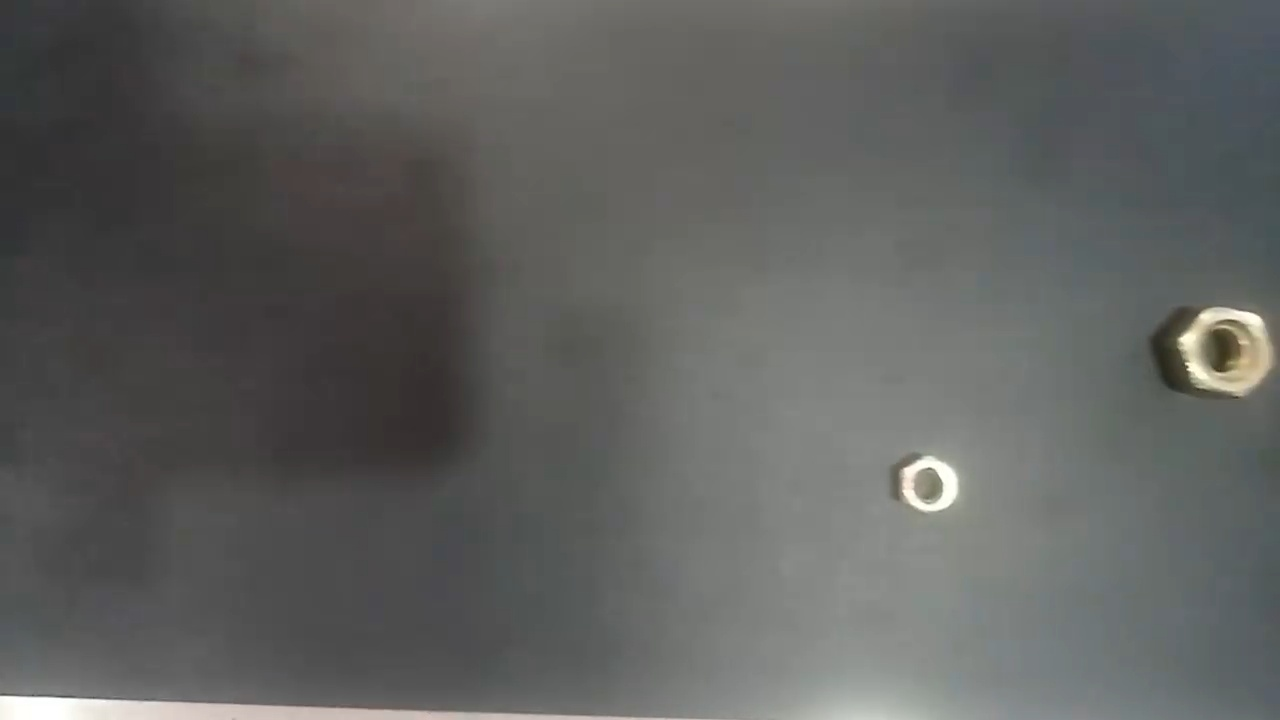Bolt: (1168, 306, 1277, 402), (894, 452, 960, 514)
